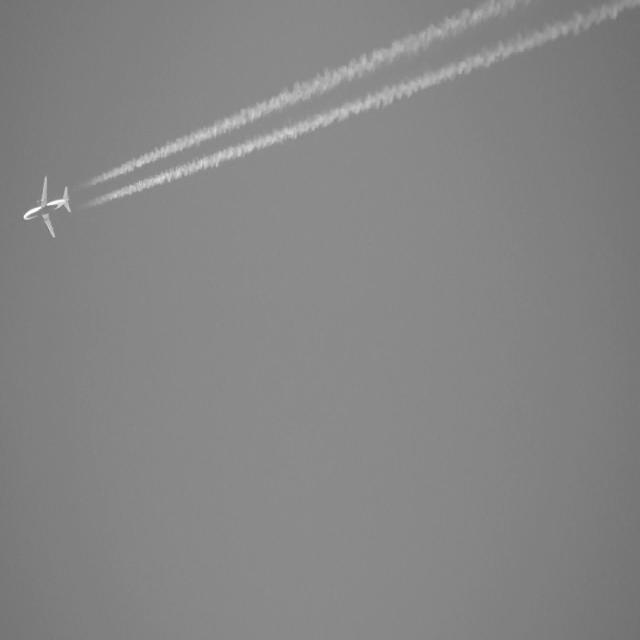aeroplane: (24, 175, 74, 241)
